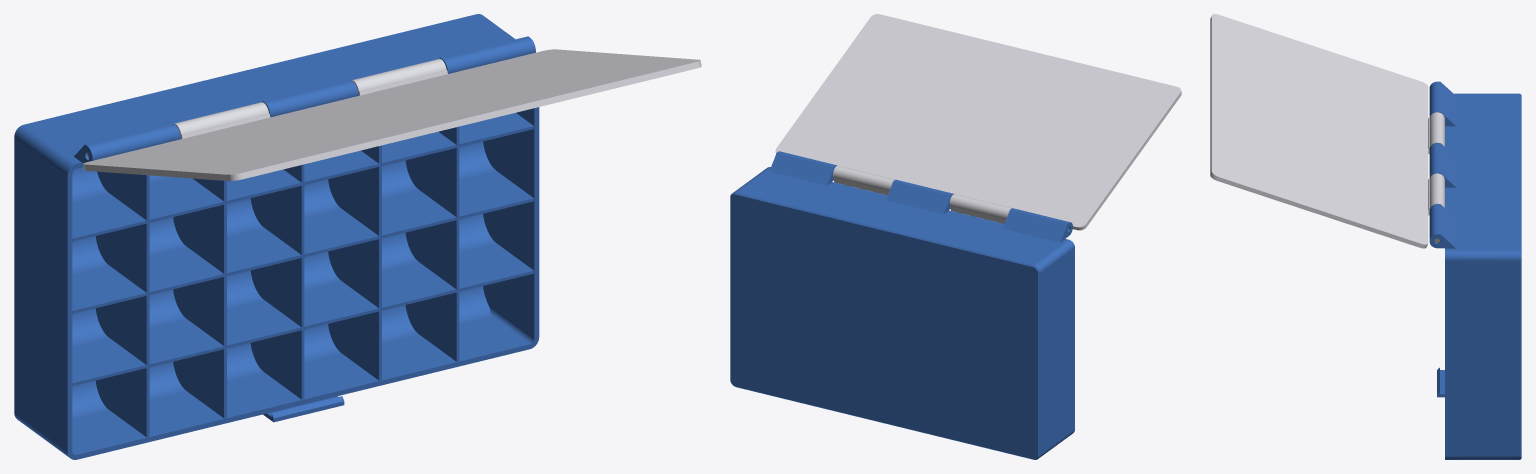
File: variant-COLS_6-ROWS_4.glb
3 renders of one model, left to right at view 1: azimuth 30°, elevation 25°; view 2: azimuth 150°, elevation 25°; view 3: azimuth 270°, elevation 25°, orthographic. The views are drawn at different scales.
Parts seen in each view (by area): view 1: 0:Kasten, 1:Deckel; view 2: 0:Kasten, 1:Deckel; view 3: 1:Deckel, 0:Kasten.
Boxes of the visible parts, left/top/right/bottom form: 0:Kasten: left=14, top=14, right=539, bottom=459; 1:Deckel: left=83, top=49, right=701, bottom=181; 0:Kasten: left=730, top=151, right=1074, bottom=459; 1:Deckel: left=775, top=14, right=1181, bottom=230; 1:Deckel: left=1210, top=14, right=1444, bottom=248; 0:Kasten: left=1429, top=81, right=1521, bottom=459.
Bounding box in the file's own units: 200 × 167 × 162.
